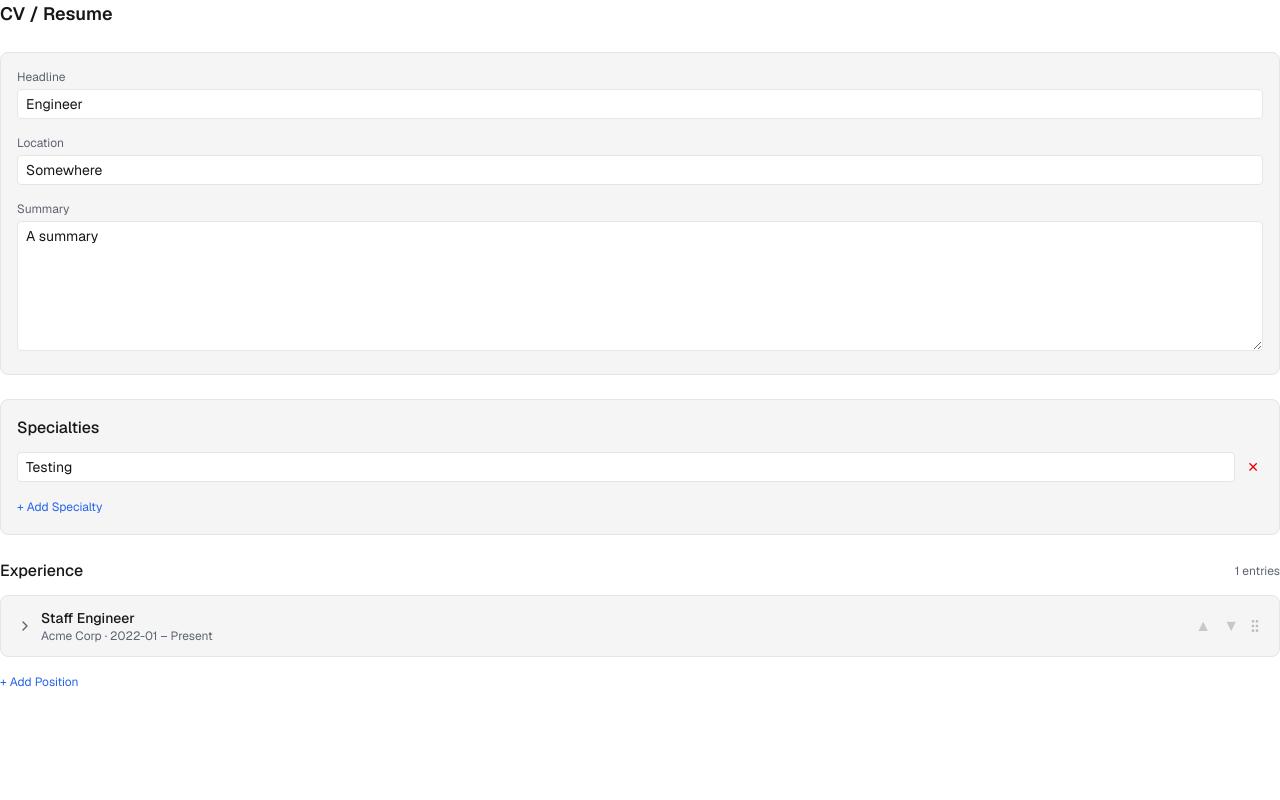
Test: CVTab › collapses entry on second click
What coordinates should you click on to do the following:
click the text "Staff Engineer"
I would click on:
 (88, 618)
Its box is 41,609 -> 135,627.
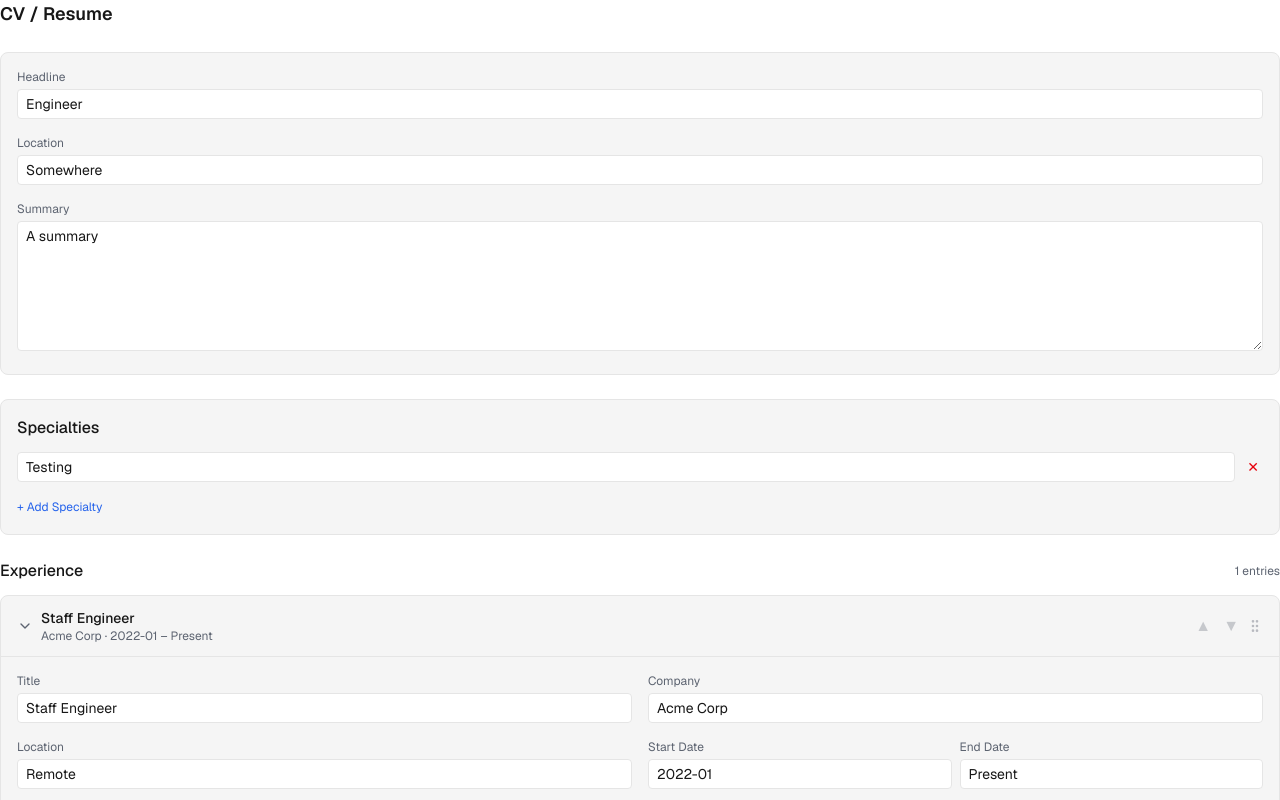
Now the field named "Title" is shown, box 17,693 -> 632,723
What coordinates should you click on to do the following:
click the text "Staff Engineer"
I would click on:
 (88, 618)
Its box is 41,609 -> 135,627.
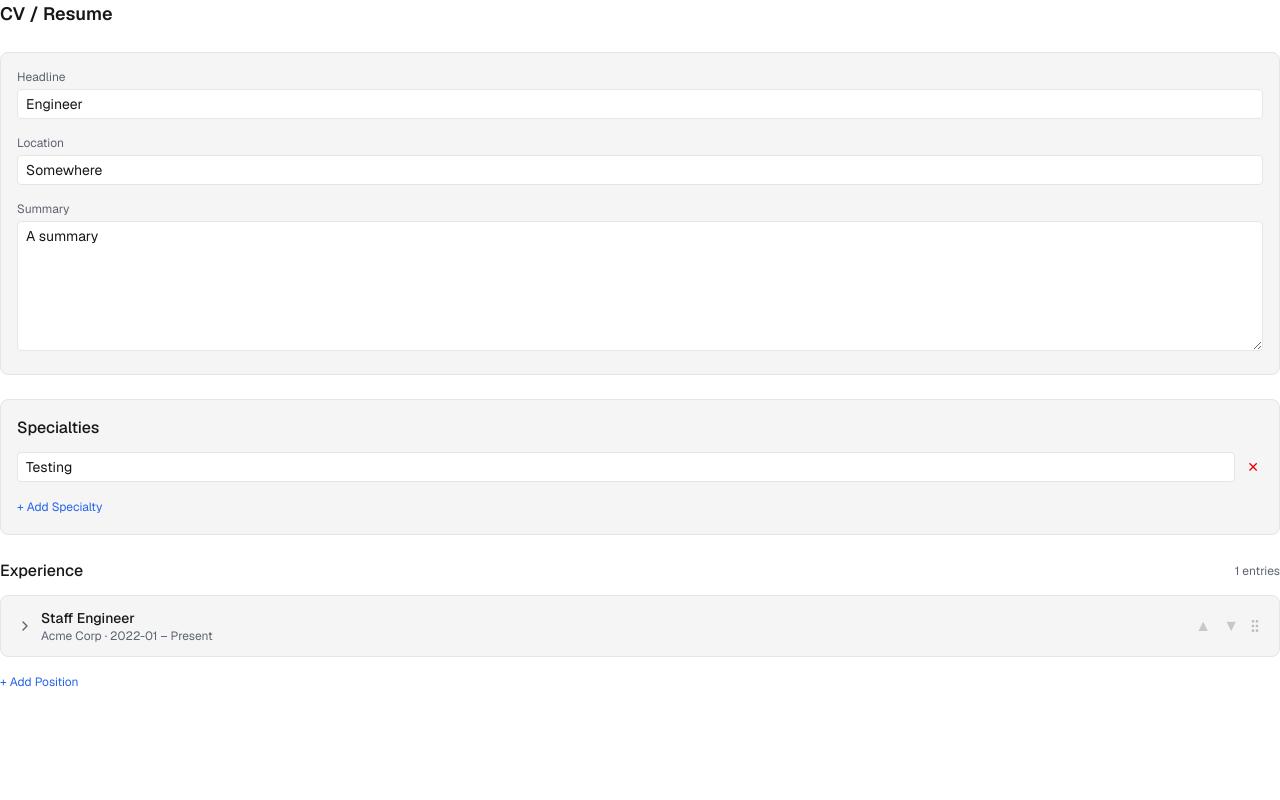
Now the label labelled "Title" is gone
